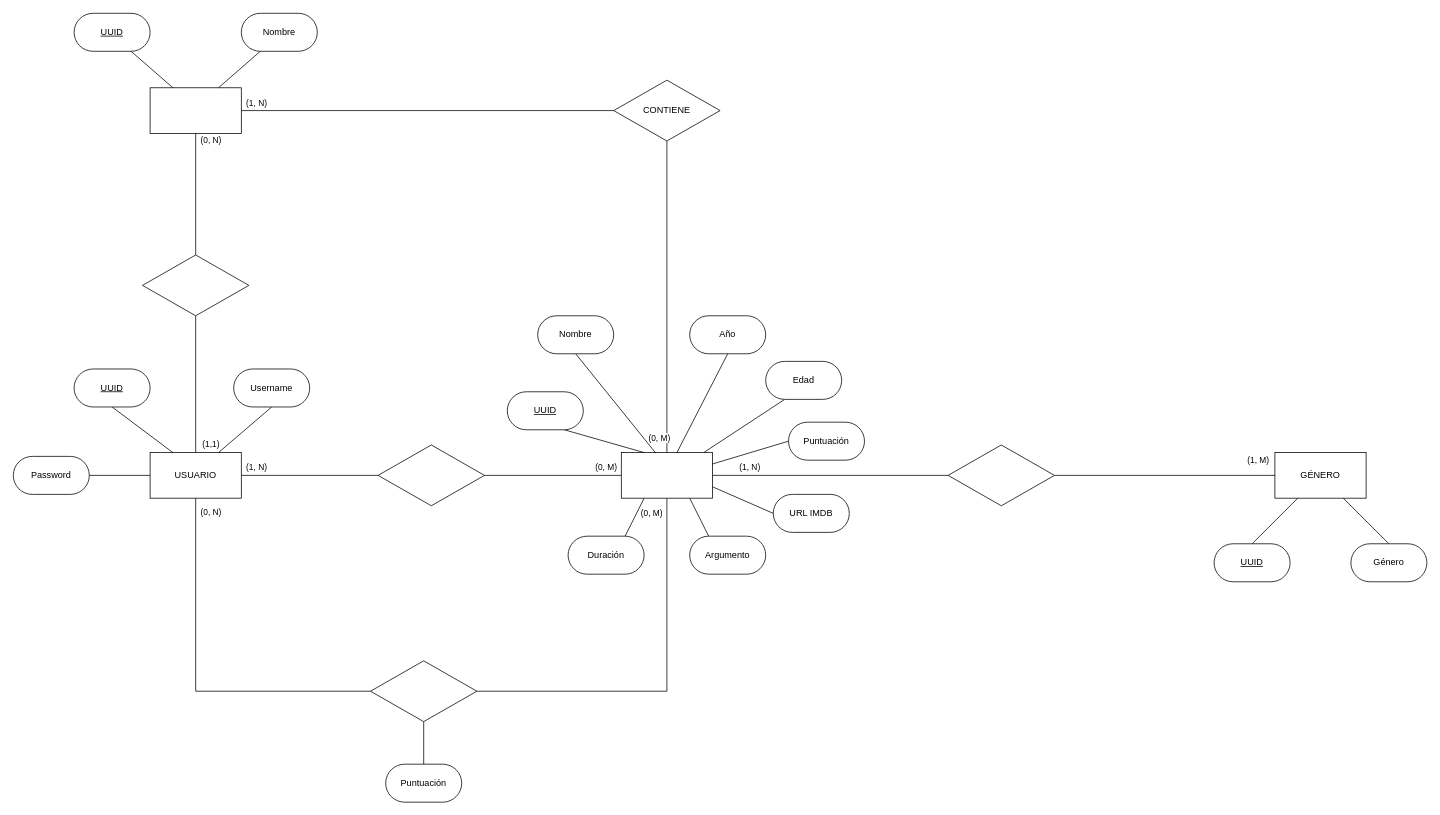
Image size: 1440x815. Some labels were removed from this diagram. Here are the shapes that lost their labels. From the top down, the box of each, then its label:
(149, 87, 241, 133): LISTA
(142, 254, 249, 316): ASOCIADA A
(377, 444, 484, 506): GUARDA
(621, 452, 712, 498): PELÍCULA
(947, 444, 1054, 506): TIENE
(370, 660, 477, 722): PUNTÚA
